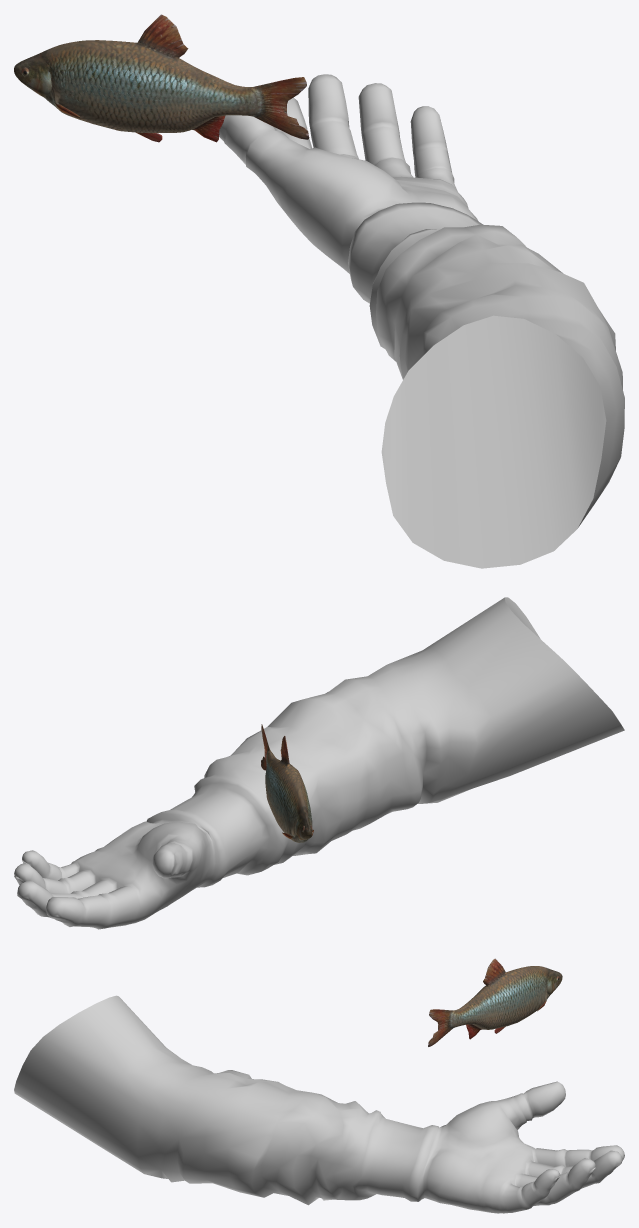
The model's file is rud_catch.fbx.
The picture shows the model from 3 angles, top to bottom: view 1: azimuth 30°, elevation 25°; view 2: azimuth 150°, elevation 25°; view 3: azimuth 270°, elevation 25°; orthographic projection. The views are drawn at different scales.
Visible parts, largest first — view 1: Arm01, Rudd-Fish_Cube.001; view 2: Arm01, Rudd-Fish_Cube.001; view 3: Arm01, Rudd-Fish_Cube.001.
Boxes of the visible parts, <box> form: Arm01: <box>219,74,624,568</box>; Rudd-Fish_Cube.001: <box>14,14,309,142</box>; Arm01: <box>14,597,624,929</box>; Rudd-Fish_Cube.001: <box>261,724,313,842</box>; Arm01: <box>14,995,624,1213</box>; Rudd-Fish_Cube.001: <box>428,958,562,1046</box>.
Bounding box in the file's own units: 234 × 163 × 469.
